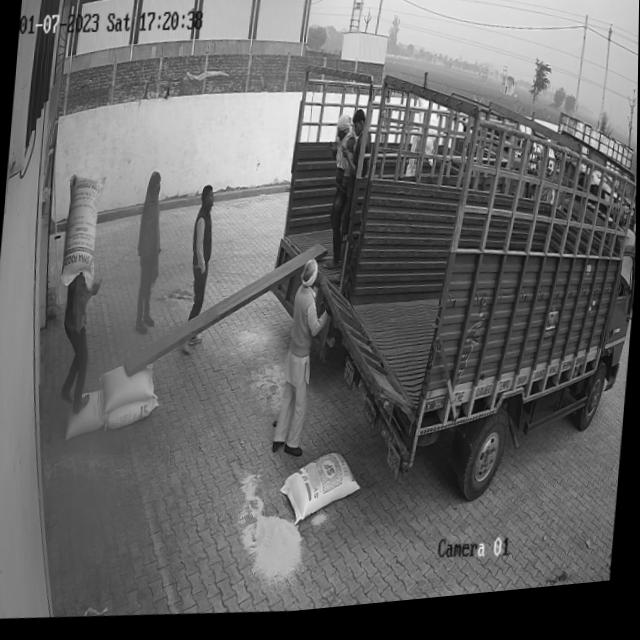sack: (278, 452, 363, 535), (61, 175, 106, 290), (96, 362, 157, 417), (66, 387, 108, 444), (106, 397, 159, 434)
